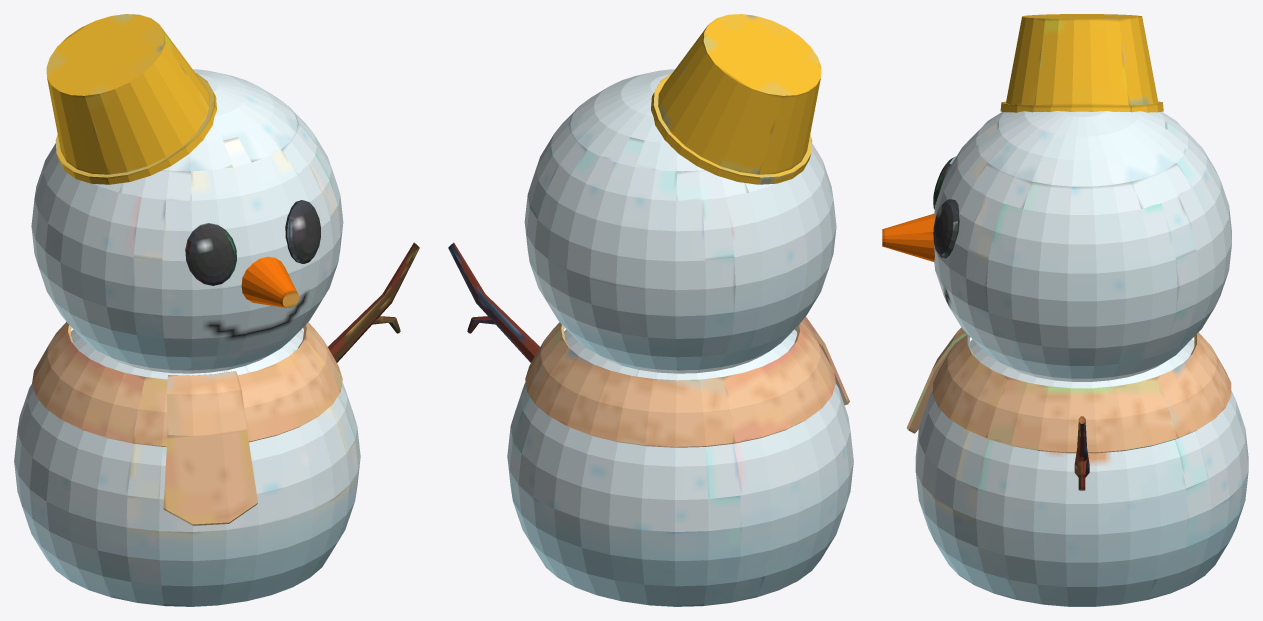
File: n-snowman.glb
3 renders of one model, left to right at view 1: azimuth 30°, elevation 25°; view 2: azimuth 150°, elevation 25°; view 3: azimuth 270°, elevation 25°, orthographic. The views are drawn at different scales.
Parts seen in each view (by area): view 1: default; view 2: default; view 3: default.
Part boxes in pixels (x1,y1,x2,y2): default: [14, 14, 419, 606]; default: [448, 14, 853, 606]; default: [882, 14, 1248, 606].
Bounding box in the file's own units: 1.59 × 2.16 × 1.38.
Materials: 1 (1 with a texture image).
